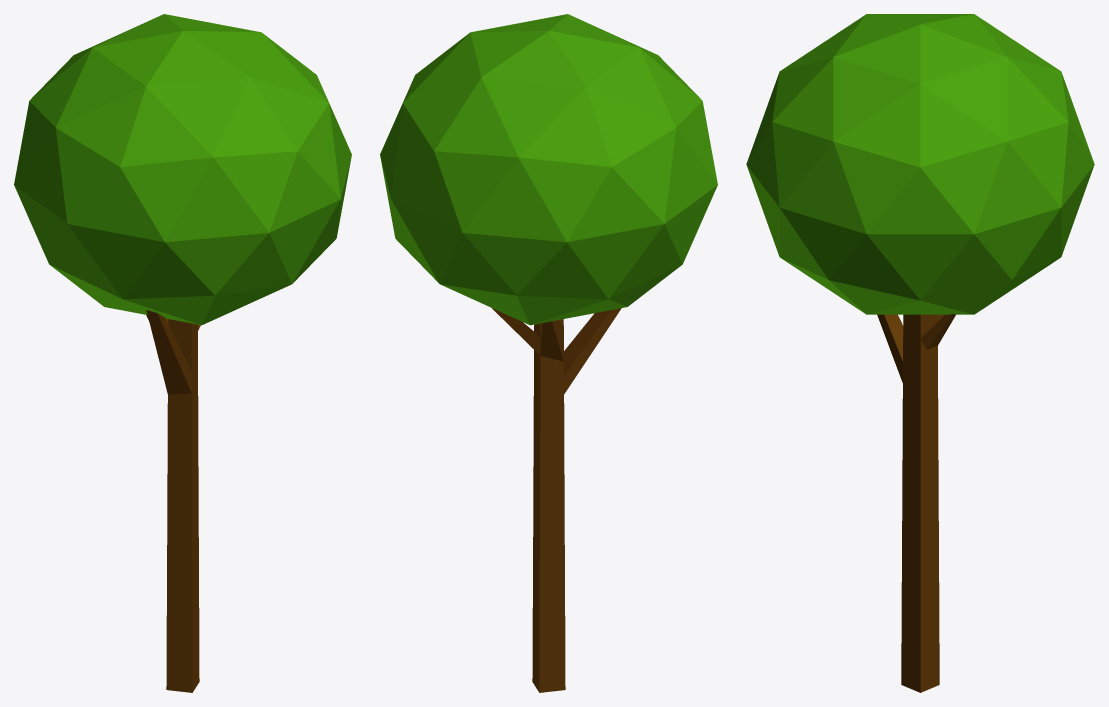
File: smalltree.gltf
3 views of the same model, side by side, from view 1: azimuth 30°, elevation 25°; view 2: azimuth 150°, elevation 25°; view 3: azimuth 270°, elevation 25° (orthographic).
Visible parts, largest first — view 1: tree_2__Cylinder.002; view 2: tree_2__Cylinder.002; view 3: tree_2__Cylinder.002.
Boxes of the visible parts, <box> form: tree_2__Cylinder.002: <box>14,14,351,692</box>; tree_2__Cylinder.002: <box>380,14,717,692</box>; tree_2__Cylinder.002: <box>746,14,1094,692</box>.
Bounding box in the file's own units: 3 × 6.59 × 3.15.
